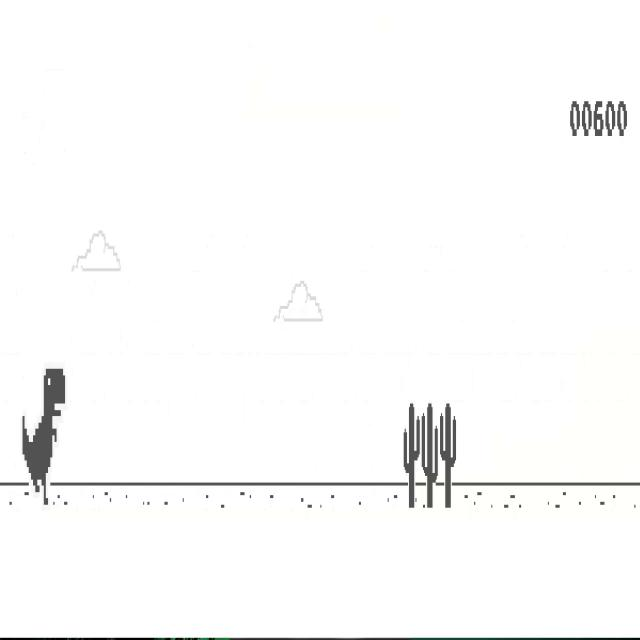cacto: (403, 402, 420, 509), (421, 402, 438, 509), (439, 402, 456, 509)
dino: (21, 366, 66, 506)
